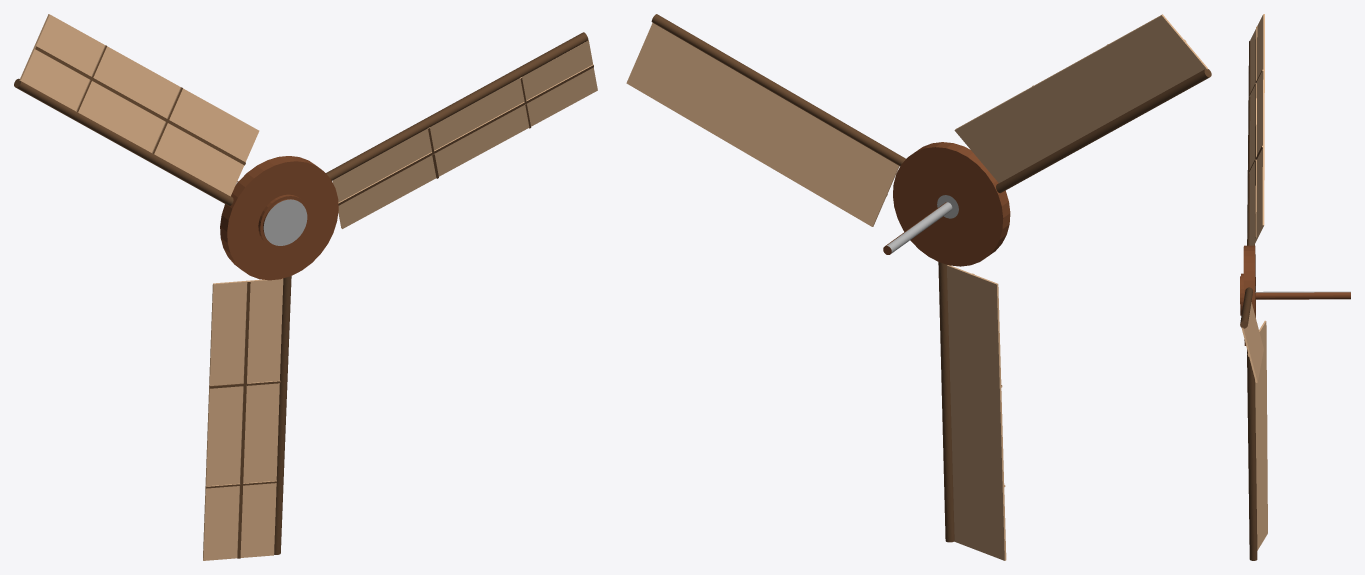
File: Windmill_Propeller.fbx
3 views of the same model, side by side, from view 1: azimuth 30°, elevation 25°; view 2: azimuth 150°, elevation 25°; view 3: azimuth 270°, elevation 25° (orthographic). The views are drawn at different scales.
Parts seen in each view (by area): view 1: Buil.010; view 2: Buil.010; view 3: Buil.010.
Part boxes in pixels (x1,y1,x2,y2): Buil.010: (14, 14, 597, 560); Buil.010: (626, 14, 1211, 560); Buil.010: (1240, 14, 1350, 560).
Bounding box in the file's own units: 9523 × 9151 × 1994.
